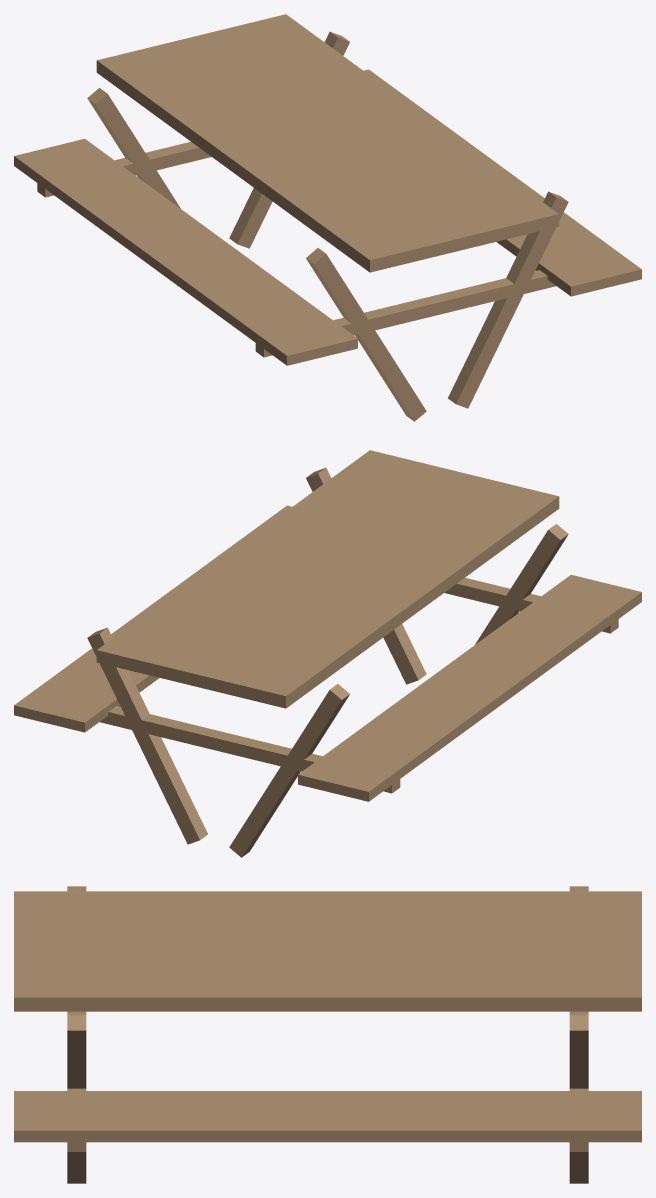
The model's file is SM_Prop_PicnicTable.glb.
3 renders of one model, top to bottom at view 1: azimuth 30°, elevation 25°; view 2: azimuth 150°, elevation 25°; view 3: azimuth 270°, elevation 25°, orthographic. The views are drawn at different scales.
Visible parts, largest first — view 1: SM_Prop_PicnicTable; view 2: SM_Prop_PicnicTable; view 3: SM_Prop_PicnicTable.
Part boxes in pixels (x1,y1,x2,y2): SM_Prop_PicnicTable: (14, 14, 641, 421); SM_Prop_PicnicTable: (14, 450, 641, 857); SM_Prop_PicnicTable: (14, 886, 641, 1183).
Bounding box in the file's own units: 1.5 × 0.7881 × 2.
